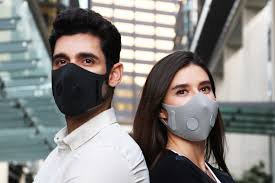mask: (42, 7, 130, 117), (147, 56, 229, 142)
